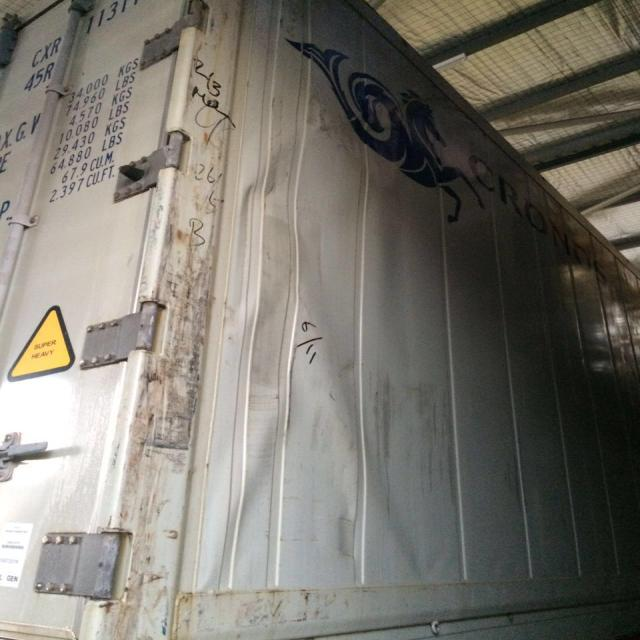dent: (204, 113, 416, 575)
